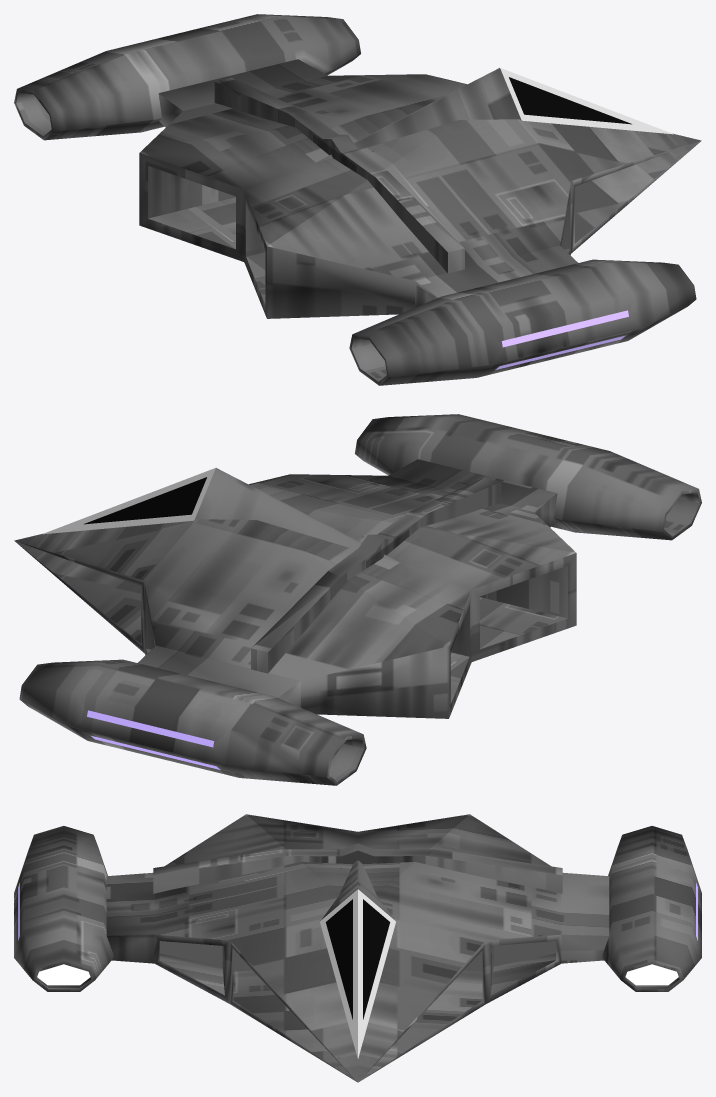
File: fighter.glb
3 views of the same model, one above another, from view 1: azimuth 30°, elevation 25°; view 2: azimuth 150°, elevation 25°; view 3: azimuth 270°, elevation 25° (orthographic). The views are drawn at different scales.
Visible parts, largest first — view 1: Fighter; view 2: Fighter; view 3: Fighter.
Boxes of the visible parts, left/top/right/bottom form: Fighter: left=14, top=14, right=701, bottom=385; Fighter: left=14, top=414, right=701, bottom=785; Fighter: left=14, top=814, right=701, bottom=1082.
Bounding box in the file's own units: 8.05 × 2.03 × 10.93.
Materials: 7 (1 with a texture image).
